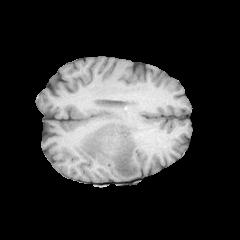glioma: (79, 121, 140, 179)
